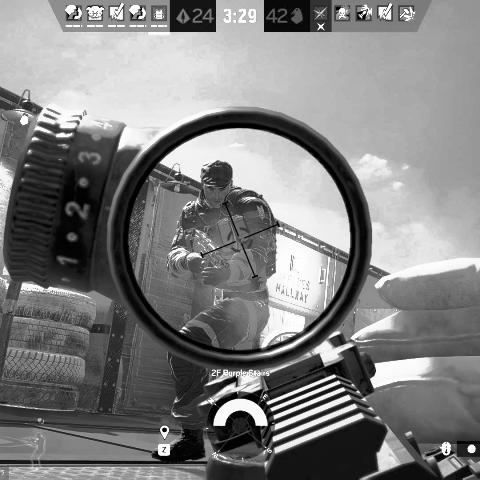Character: (150, 159, 277, 463)
Friend_label: (33, 418, 48, 434)
Head: (200, 160, 234, 208)
